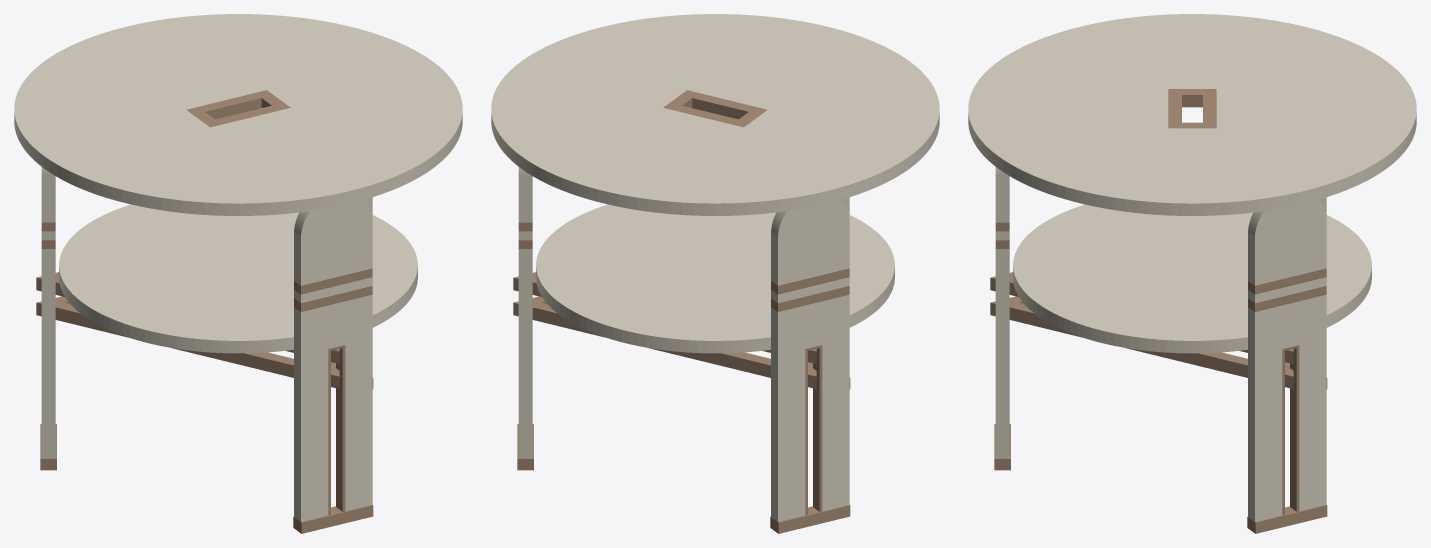
3 renders of one model, left to right at view 1: azimuth 30°, elevation 25°; view 2: azimuth 150°, elevation 25°; view 3: azimuth 270°, elevation 25°, orthographic.
Parts seen in each view (by area): view 1: P01 Upper circular maple top with grip recess, P06 Lower circular maple shelf — no opening, P21 Arched blade 270 / maple segment 1, P23 Arched blade 270 / maple segment 3, P14 Arched blade 150 / maple segment 1, P32 Triangle level 2 beam 2, P25 Slot jamb 270 / 1, P27 Foot shoe 270, P02 Grip mitred strip north, P16 Arched blade 150 / maple segment 3, P38 Upper transition band 270 / 1, P22 Arched blade 270 / maple segment 2 (+1 smaller); view 2: P01 Upper circular maple top with grip recess, P06 Lower circular maple shelf — no opening, P14 Arched blade 150 / maple segment 1, P16 Arched blade 150 / maple segment 3, P07 Arched blade 30 / maple segment 1, P31 Triangle level 2 beam 1, P18 Slot jamb 150 / 1, P20 Foot shoe 150, P03 Grip mitred strip south, P09 Arched blade 30 / maple segment 3, P36 Upper transition band 150 / 1, P15 Arched blade 150 / maple segment 2 (+1 smaller); view 3: P01 Upper circular maple top with grip recess, P06 Lower circular maple shelf — no opening, P07 Arched blade 30 / maple segment 1, P09 Arched blade 30 / maple segment 3, P21 Arched blade 270 / maple segment 1, P33 Triangle level 2 beam 3, P11 Slot jamb 30 / 1, P13 Foot shoe 30, P23 Arched blade 270 / maple segment 3, P34 Upper transition band 30 / 1, P08 Arched blade 30 / maple segment 2, P35 Upper transition band 30 / 2.
Boxes of the visible parts, <box> form: P01 Upper circular maple top with grip recess: <box>14,14,462,215</box>; P06 Lower circular maple shelf — no opening: <box>59,204,417,353</box>; P21 Arched blade 270 / maple segment 1: <box>294,294,372,521</box>; P23 Arched blade 270 / maple segment 3: <box>294,199,372,285</box>; P14 Arched blade 150 / maple segment 1: <box>41,249,55,458</box>; P32 Triangle level 2 beam 2: <box>36,302,339,388</box>; P25 Slot jamb 270 / 1: <box>336,347,345,511</box>; P27 Foot shoe 270: <box>293,505,373,533</box>; P02 Grip mitred strip north: <box>187,90,266,119</box>; P16 Arched blade 150 / maple segment 3: <box>41,167,55,222</box>; P38 Upper transition band 270 / 1: <box>294,268,372,294</box>; P22 Arched blade 270 / maple segment 2: <box>294,277,372,303</box>; P01 Upper circular maple top with grip recess: <box>491,14,939,215</box>; P06 Lower circular maple shelf — no opening: <box>536,204,894,353</box>; P14 Arched blade 150 / maple segment 1: <box>771,294,849,521</box>; P16 Arched blade 150 / maple segment 3: <box>771,199,849,285</box>; P07 Arched blade 30 / maple segment 1: <box>518,249,532,458</box>; P31 Triangle level 2 beam 1: <box>513,302,816,388</box>; P18 Slot jamb 150 / 1: <box>813,347,822,511</box>; P20 Foot shoe 150: <box>770,505,850,533</box>; P03 Grip mitred strip south: <box>687,90,766,119</box>; P09 Arched blade 30 / maple segment 3: <box>518,167,532,222</box>; P36 Upper transition band 150 / 1: <box>771,268,849,294</box>; P15 Arched blade 150 / maple segment 2: <box>771,277,849,303</box>; P01 Upper circular maple top with grip recess: <box>968,14,1416,215</box>; P06 Lower circular maple shelf — no opening: <box>1013,204,1371,353</box>; P07 Arched blade 30 / maple segment 1: <box>1248,294,1326,521</box>; P09 Arched blade 30 / maple segment 3: <box>1248,199,1326,285</box>; P21 Arched blade 270 / maple segment 1: <box>995,249,1009,458</box>; P33 Triangle level 2 beam 3: <box>990,302,1293,388</box>; P11 Slot jamb 30 / 1: <box>1290,347,1299,511</box>; P13 Foot shoe 30: <box>1247,505,1327,533</box>; P23 Arched blade 270 / maple segment 3: <box>995,167,1009,222</box>; P34 Upper transition band 30 / 1: <box>1248,268,1326,294</box>; P08 Arched blade 30 / maple segment 2: <box>1248,277,1326,303</box>; P35 Upper transition band 30 / 2: <box>1248,286,1326,311</box>.
Size of the model in its own units: 0.65 by 0.55 by 0.6498.
